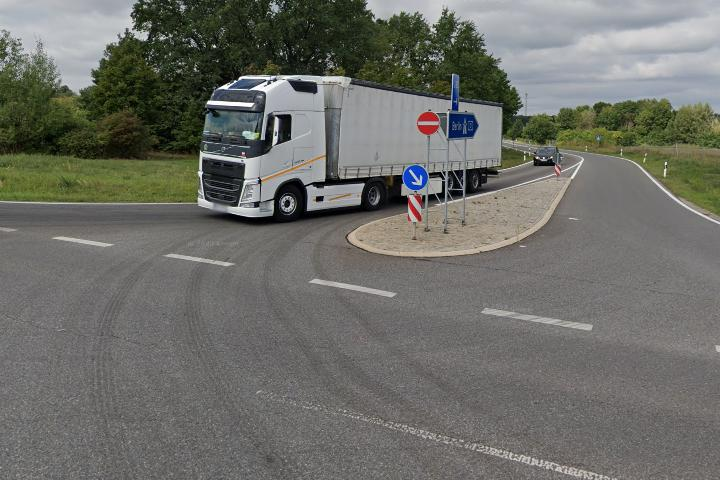traffic_sign: (403, 164, 429, 190), (417, 111, 441, 135)
vehicle: (190, 69, 502, 225), (531, 143, 561, 168)
